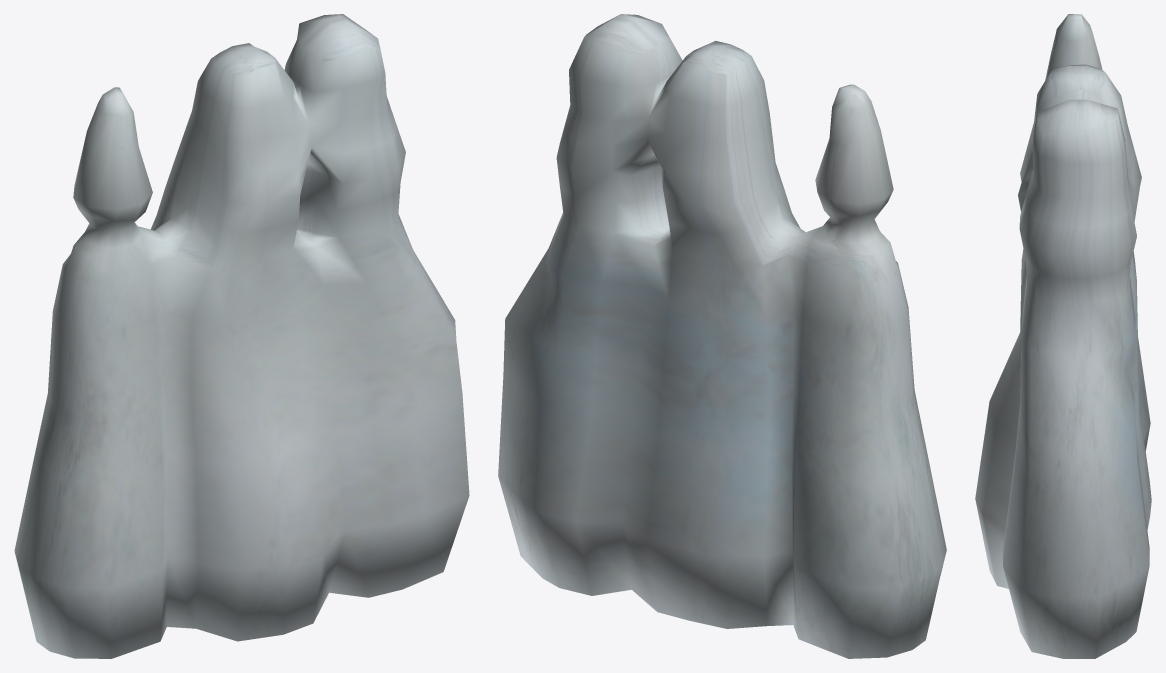
The model's file is P_RockDesert_HoodooCliff07.obj.
3 renders of one model, left to right at view 1: azimuth 30°, elevation 25°; view 2: azimuth 150°, elevation 25°; view 3: azimuth 270°, elevation 25°, orthographic. The views are drawn at different scales.
Size of the model in its own units: 48.23 by 60.24 by 18.69.
